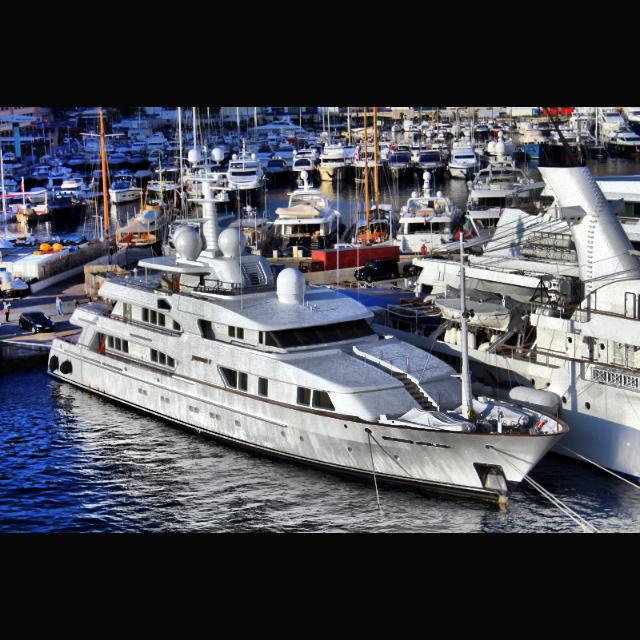yacht: (47, 162, 571, 508)
